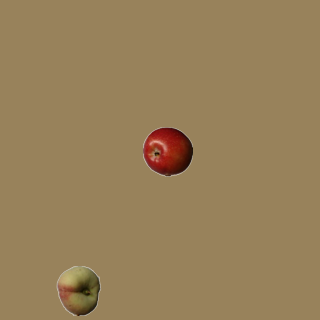Apple Braeburn: (142, 126, 192, 176)
Peach Flat: (53, 265, 103, 315)
